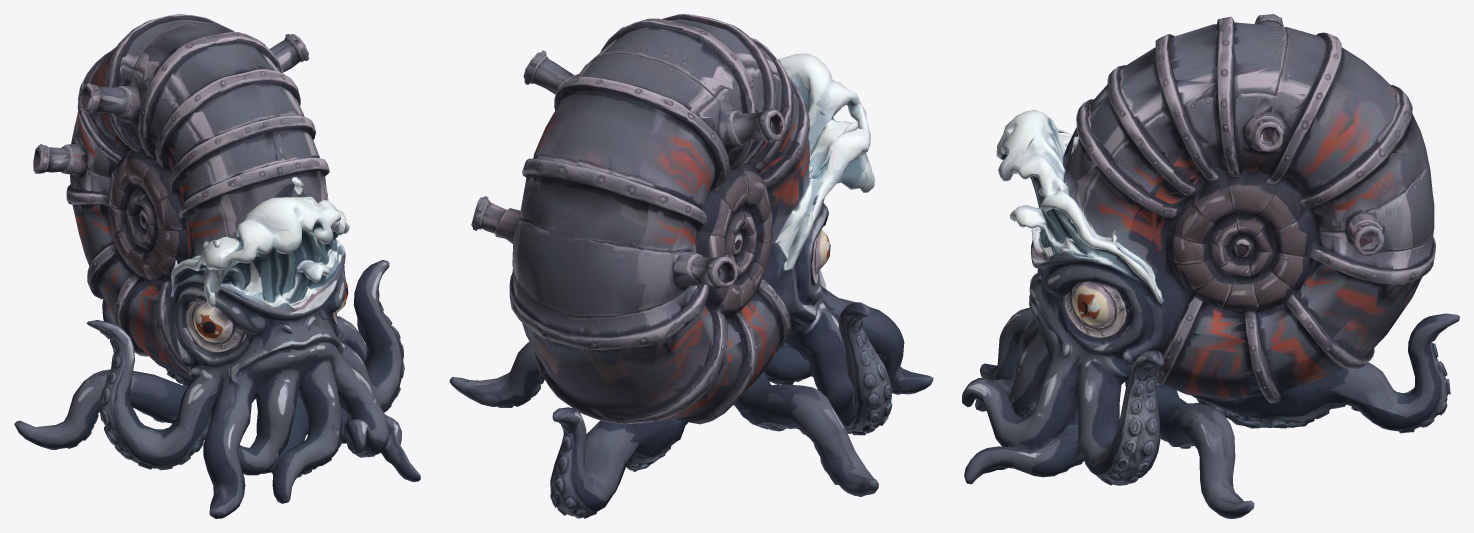
3 renders of one model, left to right at view 1: azimuth 30°, elevation 25°; view 2: azimuth 150°, elevation 25°; view 3: azimuth 270°, elevation 25°, orthographic. The views are drawn at different scales.
Parts seen in each view (by area): view 1: Mesh_0; view 2: Mesh_0; view 3: Mesh_0.
Boxes of the visible parts, x1,y1,x2,y2 form: Mesh_0: [14, 14, 420, 518]; Mesh_0: [449, 14, 933, 518]; Mesh_0: [962, 14, 1459, 518].
Bounding box in the file's own units: 1.79 × 1.73 × 1.9.
Materials: 1 (1 with a texture image).
